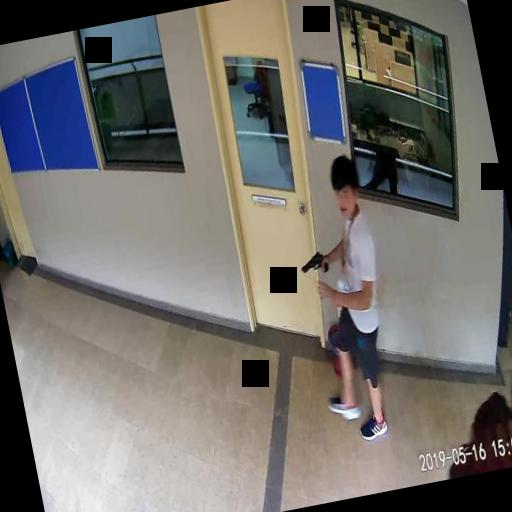Handgun: (298, 249, 328, 278)
